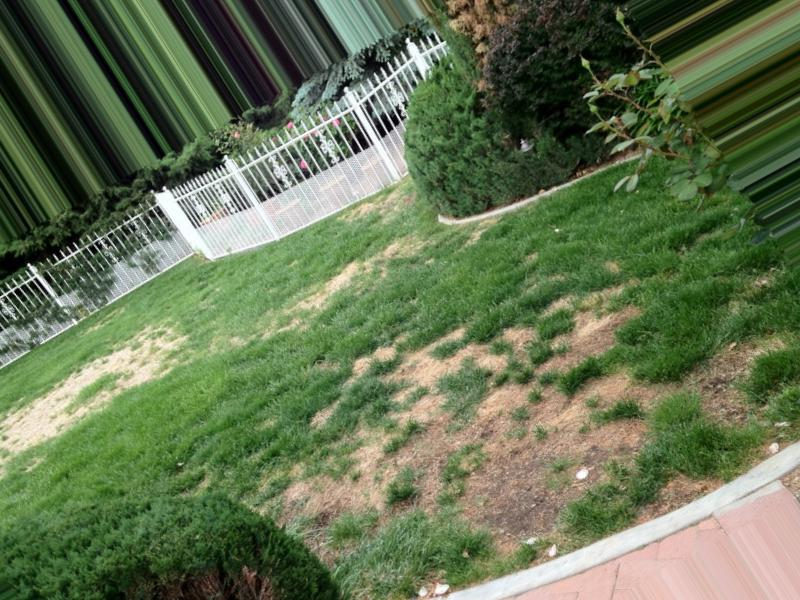patch: (487, 445, 553, 502), (568, 426, 633, 466), (482, 399, 541, 427), (409, 358, 451, 386), (422, 437, 451, 470), (418, 404, 451, 425), (328, 478, 365, 493), (34, 414, 60, 432), (124, 357, 143, 369)
